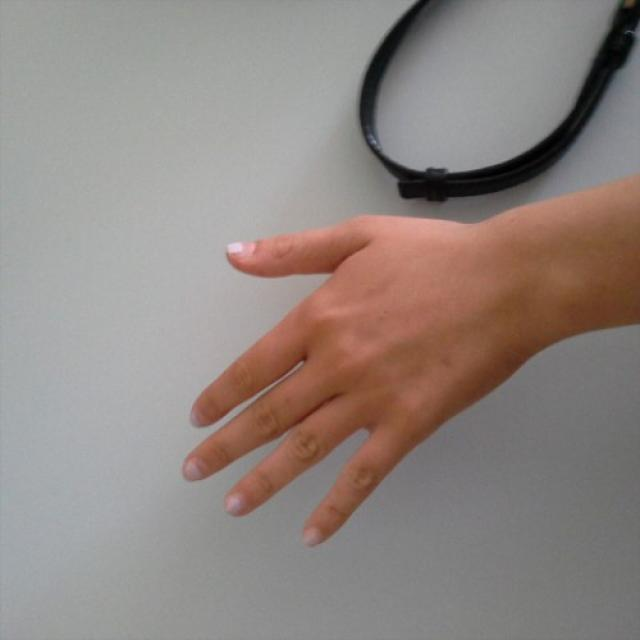paper: (180, 211, 486, 547)
